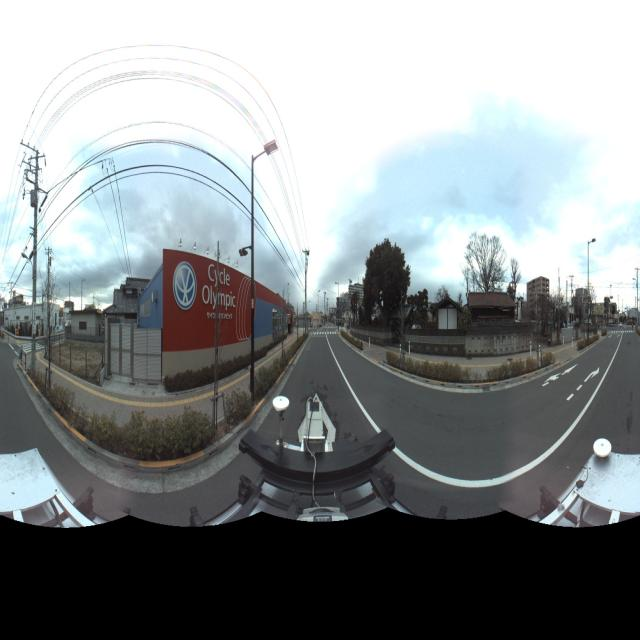b_1: (4, 294, 64, 339), (470, 289, 520, 325), (526, 272, 552, 322), (70, 303, 102, 342), (591, 296, 619, 332)
